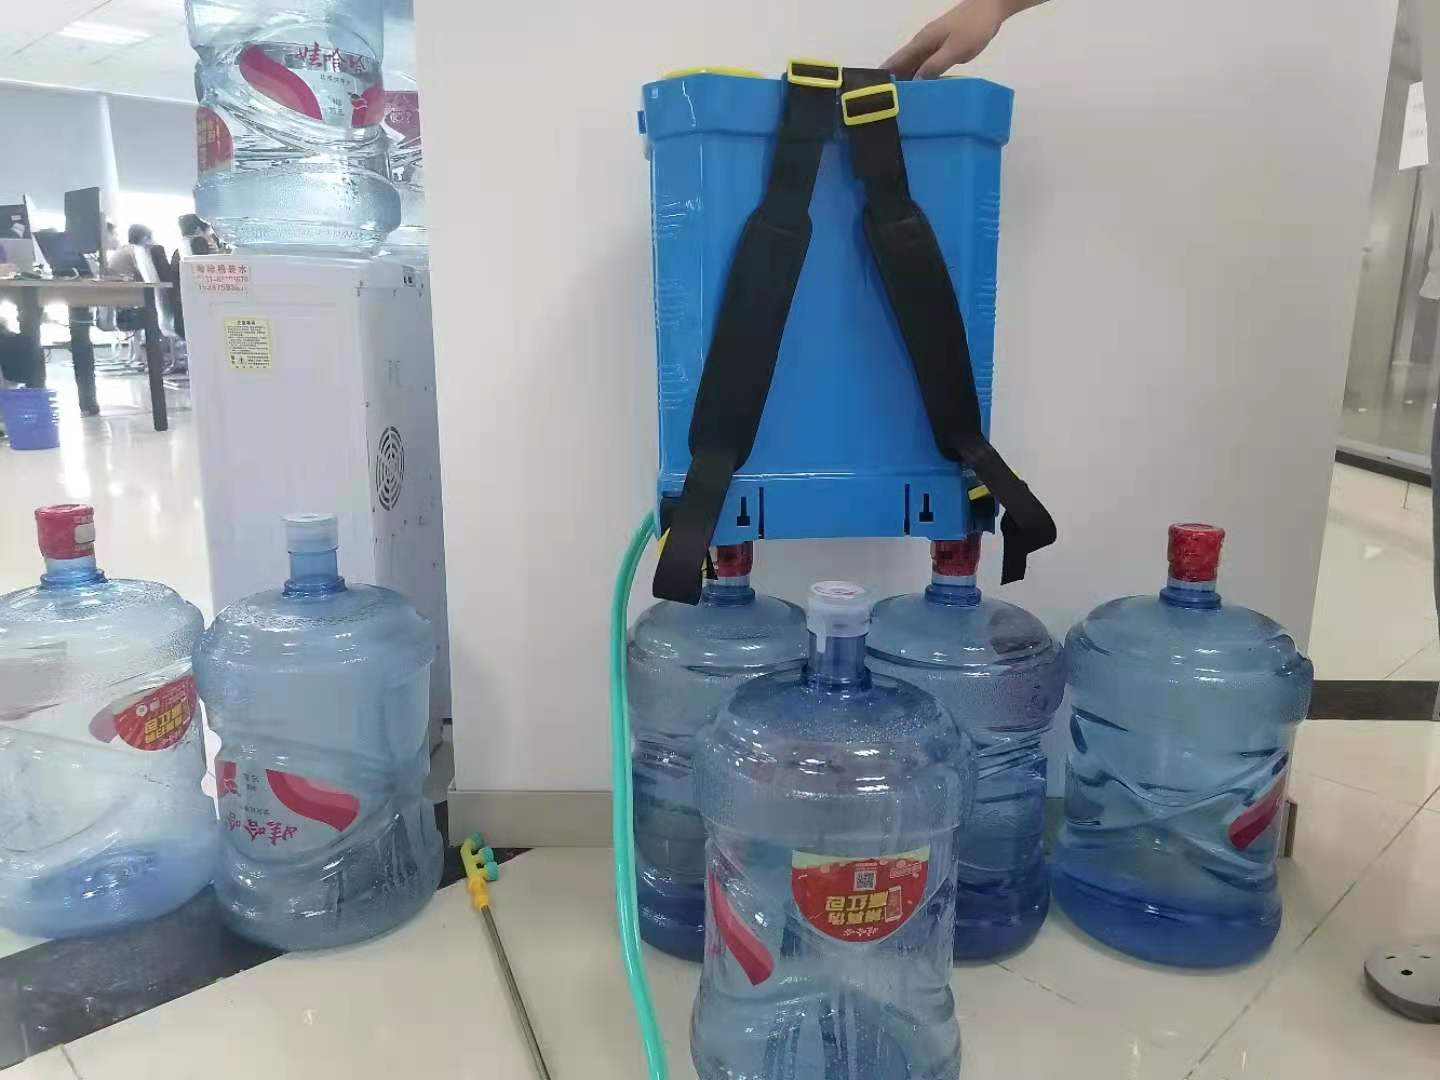berrl: (635, 61, 1026, 556)
